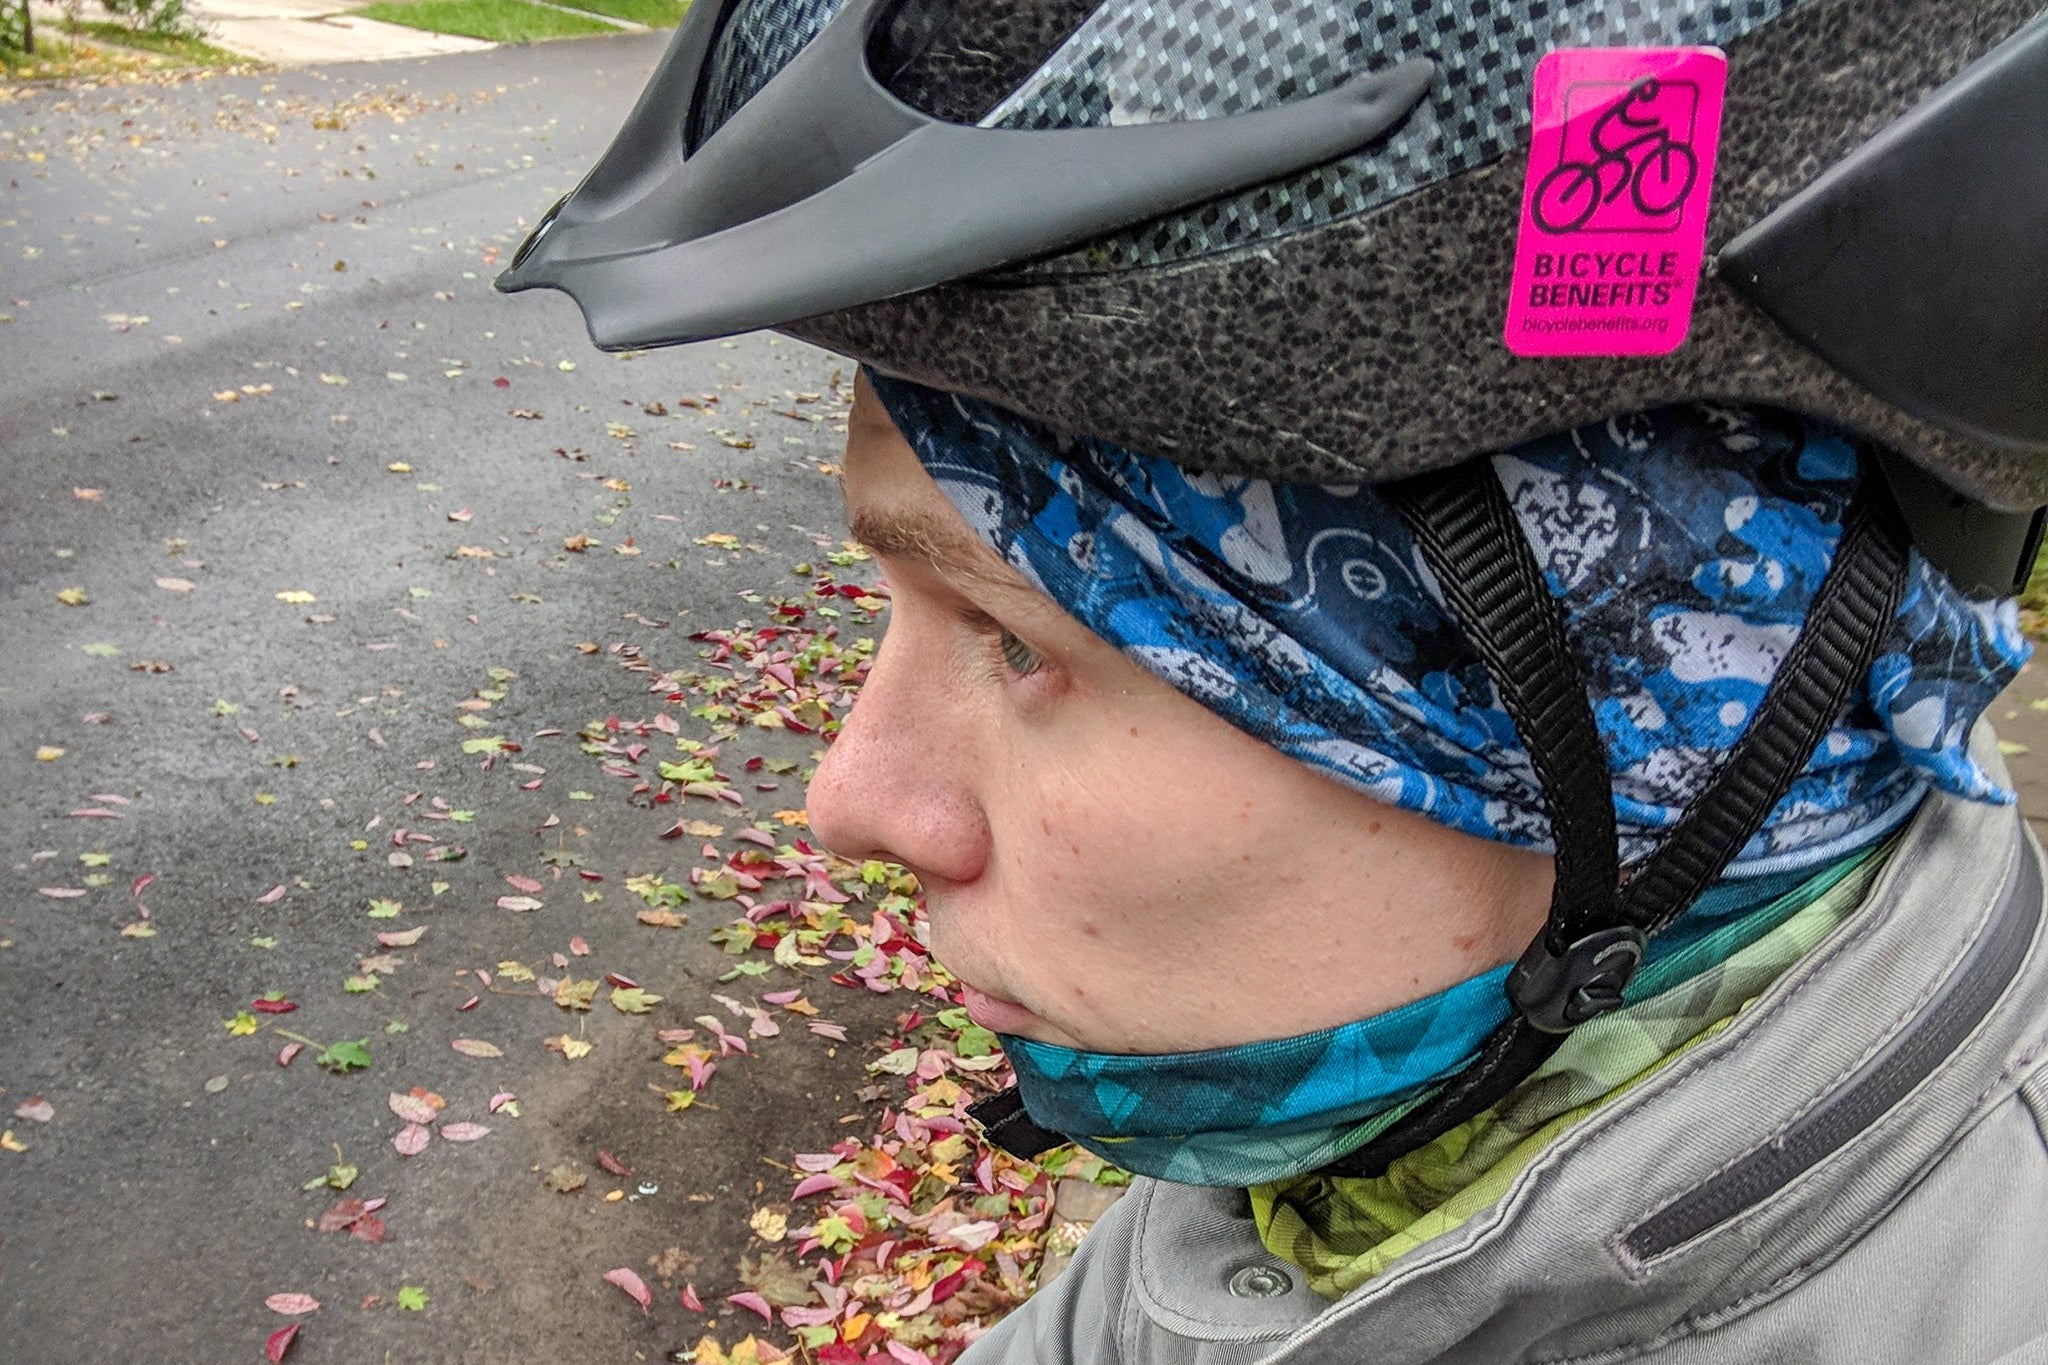helmet: (496, 2, 2048, 1187)
